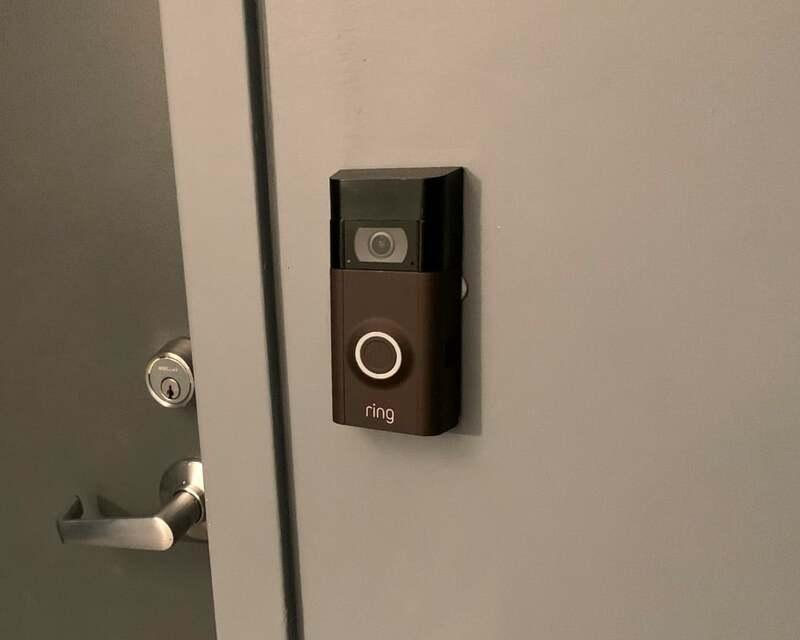doorbell: (322, 159, 474, 437)
